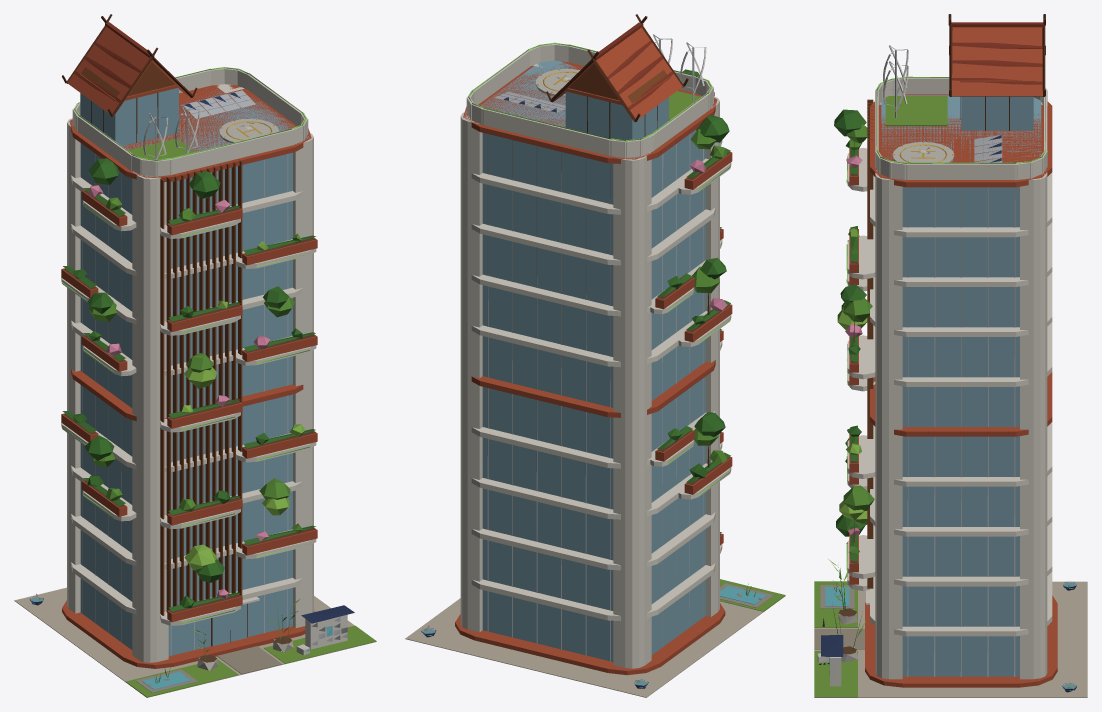
Rendered from home_4.glb.
The picture shows the model from 3 angles, left to right: view 1: azimuth 30°, elevation 25°; view 2: azimuth 150°, elevation 25°; view 3: azimuth 270°, elevation 25°; orthographic projection. The views are drawn at different scales.
Visible parts, largest first — view 1: body, windows; view 2: body, windows; view 3: body, windows.
Boxes of the visible parts, left/top/right/bottom form: body: left=14, top=14, right=376, bottom=697; windows: left=61, top=67, right=332, bottom=651; body: left=405, top=14, right=785, bottom=697; windows: left=468, top=42, right=730, bottom=495; body: left=814, top=14, right=1087, bottom=697; windows: left=817, top=76, right=1045, bottom=666.
Size of the model in its own units: 15.96 by 38.64 by 15.9.
